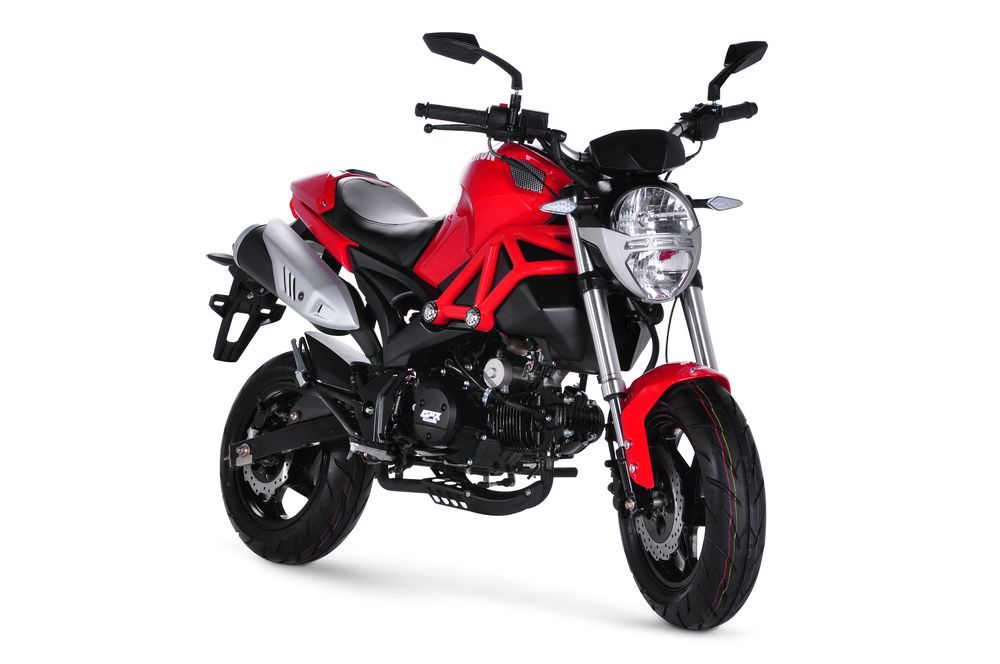motorcycle: (205, 32, 791, 630)
